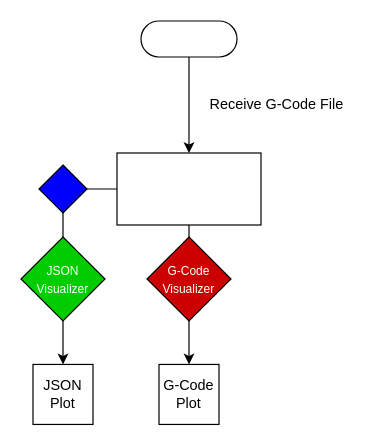
Some shapes in this 372 by 446 pixel diagram are drawn without their labels. Here are the shapes that lost their labels. From the top down, the box of each, then its label:
(38, 164, 87, 213): Parser
(116, 152, 261, 225): Received G-Code File
